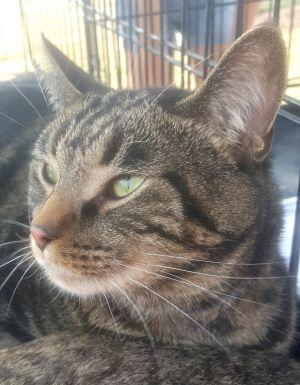bengal: (19, 20, 300, 312)
